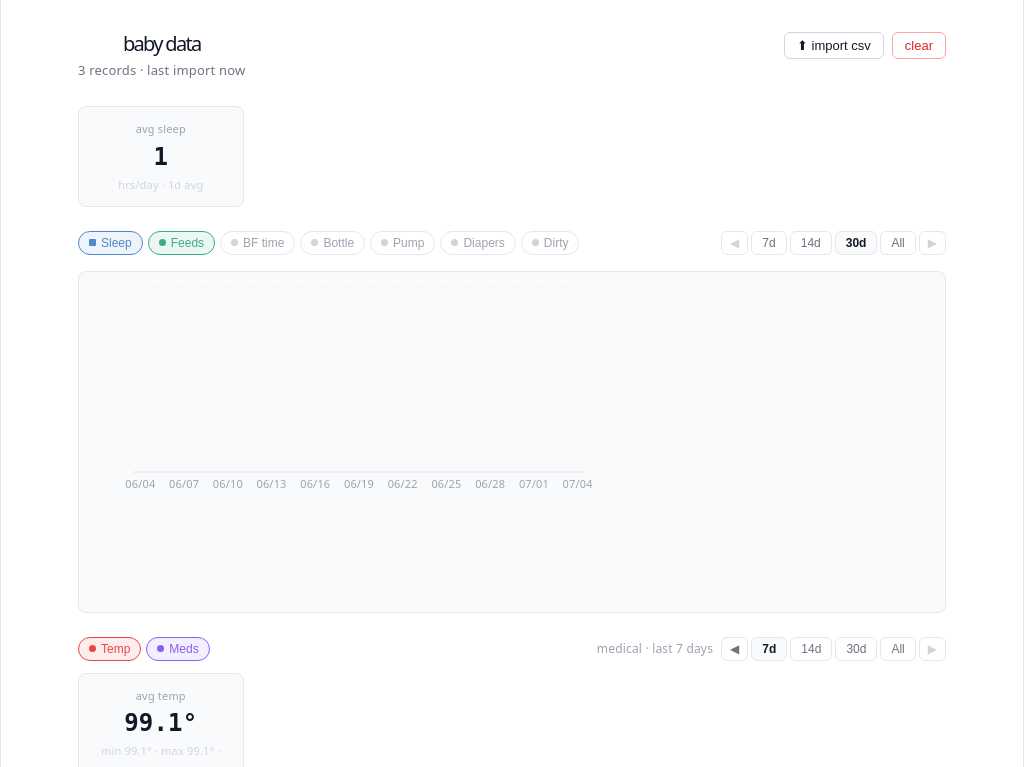
NaraAnalytics window paging › selecting a range resets the offset to the current window
Click the button named "earlier" at coordinates (735, 649), box [721,637,748,661]
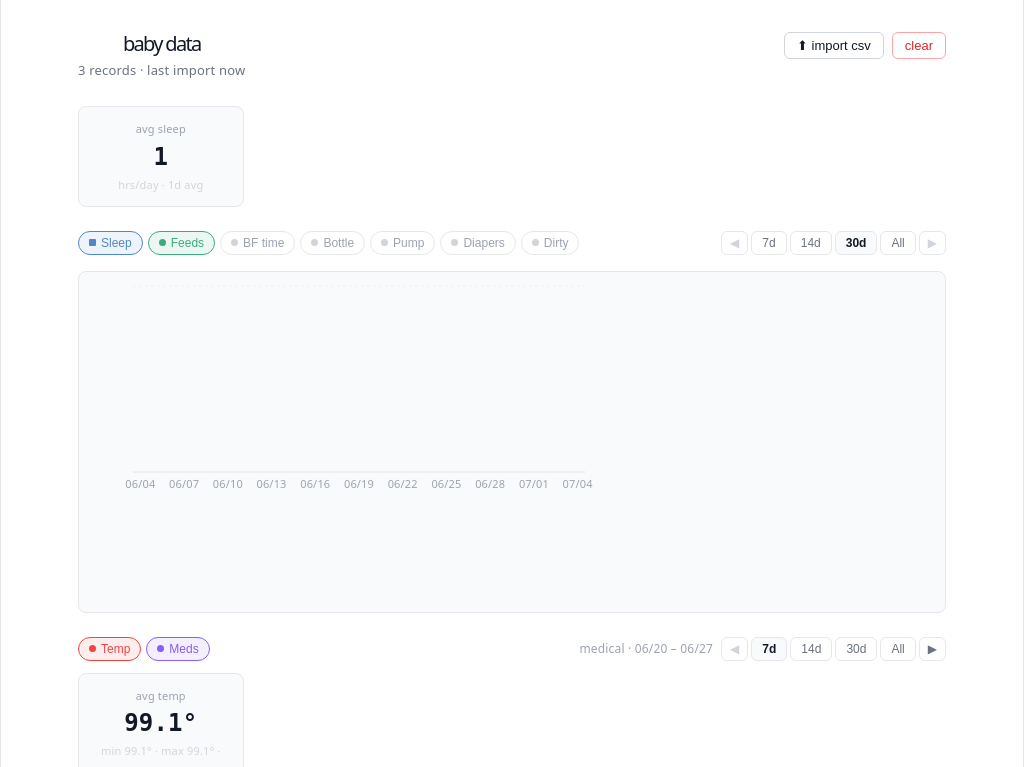
Click the button "14d" in the row of "06/20 – 06/27" at coordinates (811, 649), box [790,637,832,661]
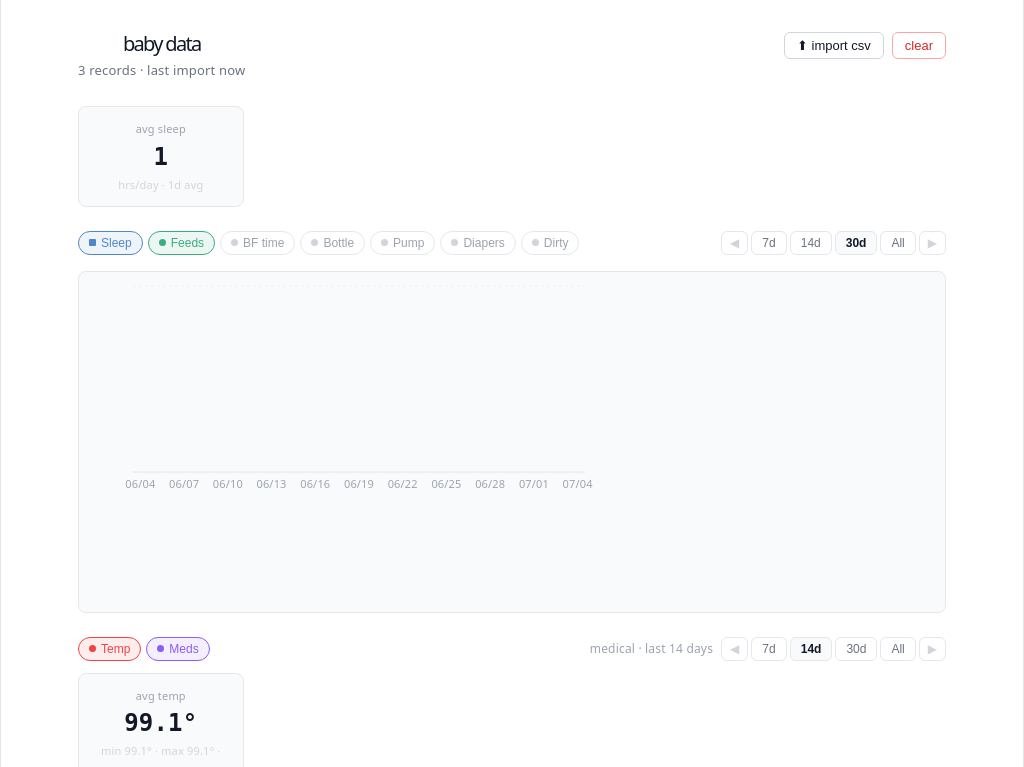
Now the text "medical · last 14 days" is shown, box [590,637,713,660]
Now the button named "later" is disabled, box [919,637,946,661]
